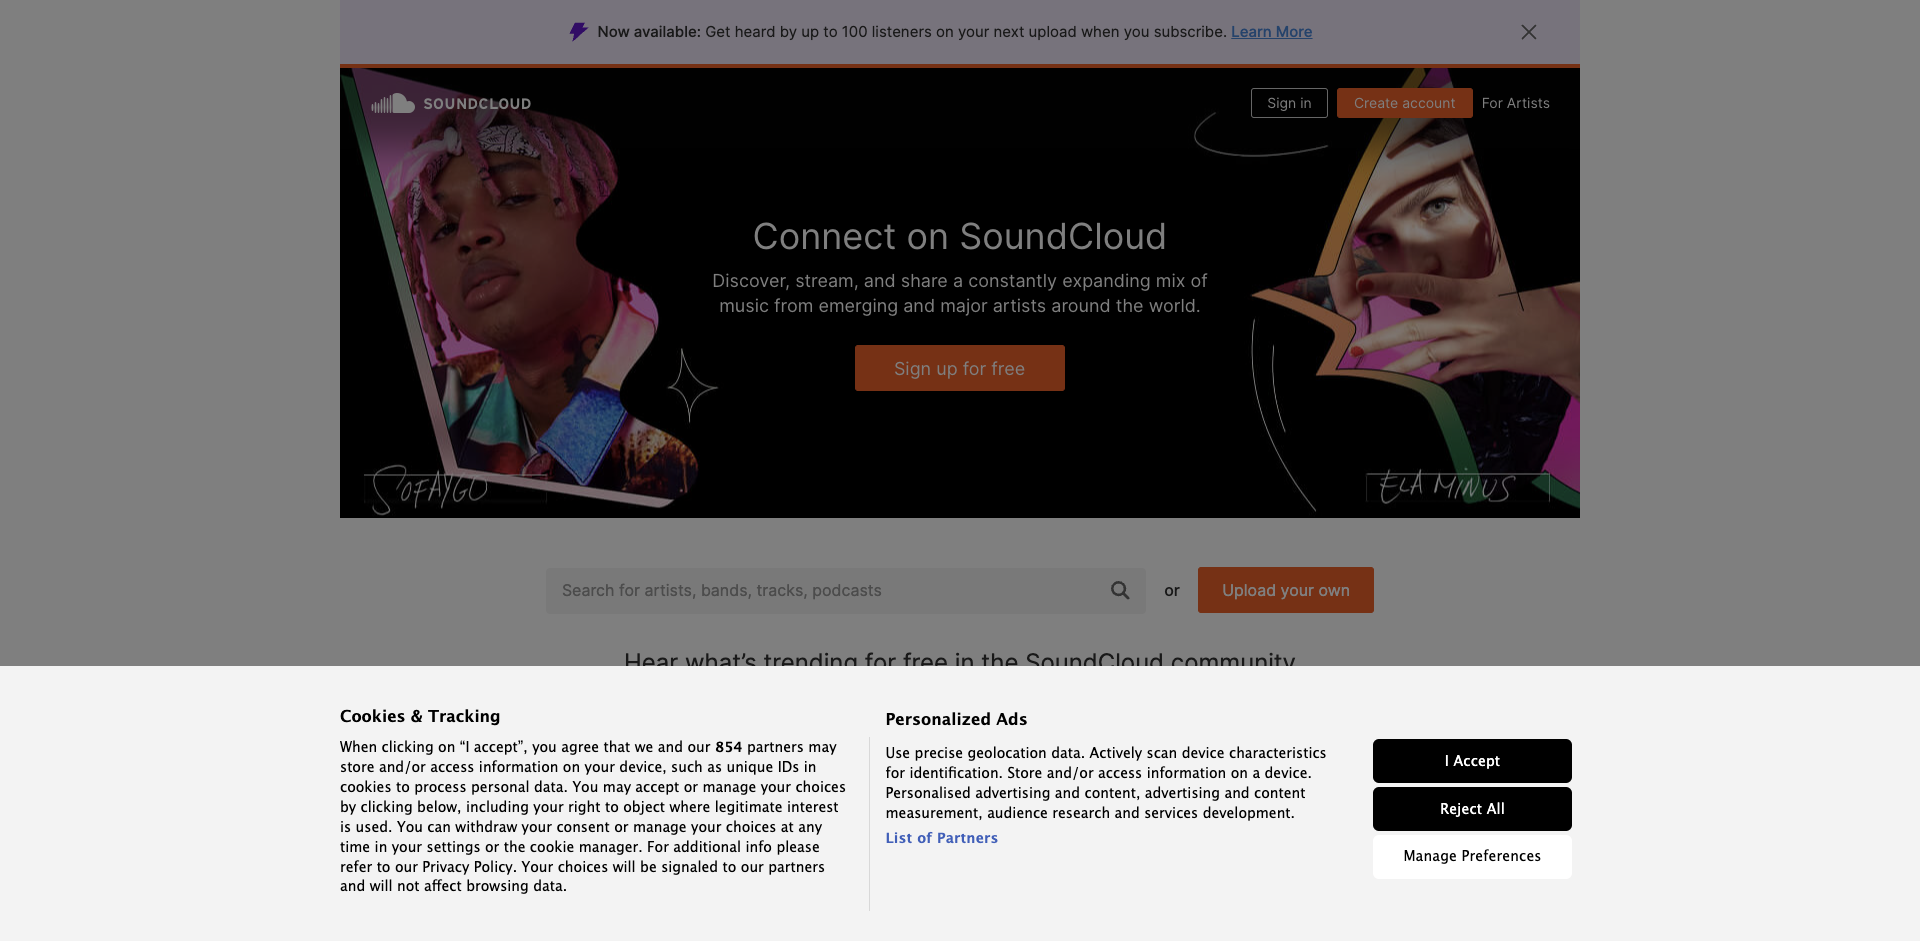button: (0, 667, 1920, 941), (1371, 736, 1573, 881), (1371, 784, 1573, 833), (1371, 736, 1573, 784), (1371, 833, 1573, 881), (855, 346, 1065, 391), (1199, 567, 1374, 613), (1337, 88, 1473, 118), (631, 771, 689, 830), (431, 771, 489, 830), (831, 771, 889, 830), (1031, 771, 1089, 830), (1231, 771, 1288, 830), (1431, 771, 1489, 830), (1332, 9, 1457, 36), (1467, 0, 1534, 45), (1096, 567, 1146, 614), (1251, 88, 1327, 118), (885, 828, 998, 848), (1534, 0, 1580, 47), (1482, 89, 1550, 119), (1247, 9, 1314, 36), (1453, 395, 1511, 420), (1510, 20, 1550, 44), (1527, 385, 1548, 430), (495, 863, 520, 885), (670, 863, 696, 885), (869, 863, 895, 885), (920, 863, 945, 885), (1095, 863, 1120, 885), (1270, 863, 1296, 885), (1469, 863, 1495, 885), (1520, 863, 1545, 885), (470, 863, 495, 885), (520, 863, 545, 885), (696, 863, 720, 885), (720, 863, 744, 885), (895, 863, 920, 885), (1070, 863, 1095, 885), (1120, 863, 1145, 885), (1296, 863, 1320, 885), (1320, 863, 1344, 885), (1495, 863, 1520, 885), (1201, 15, 1217, 29)
input: (546, 567, 1146, 614), (846, 9, 1227, 37)
link: (340, 0, 524, 47), (524, 0, 628, 47), (628, 0, 732, 47), (732, 0, 836, 47), (370, 896, 550, 915), (569, 896, 749, 915), (770, 896, 950, 915), (970, 896, 1150, 915), (1169, 896, 1349, 915), (1370, 896, 1550, 915), (1232, 22, 1313, 40), (1370, 915, 1450, 931), (970, 915, 1041, 931), (770, 915, 816, 931), (569, 915, 607, 931), (1169, 915, 1202, 931), (370, 915, 398, 931)
